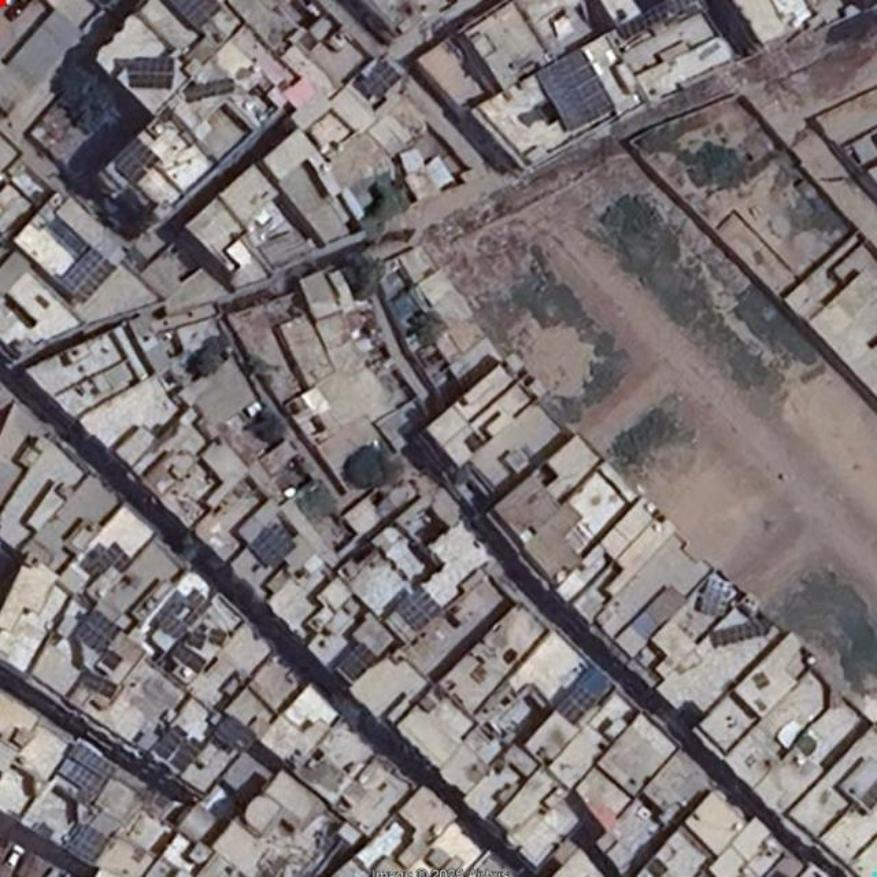Solarpanel: (536, 49, 612, 132), (59, 246, 117, 305), (60, 742, 113, 799), (74, 608, 121, 652), (114, 137, 159, 182), (396, 589, 441, 633), (164, 0, 222, 31), (252, 528, 295, 569), (556, 686, 597, 723), (130, 56, 175, 88), (363, 61, 402, 97), (341, 643, 378, 679), (710, 623, 760, 649), (700, 576, 730, 615), (154, 725, 187, 760), (183, 78, 233, 101), (81, 672, 118, 697), (171, 740, 202, 768), (173, 647, 205, 673)
